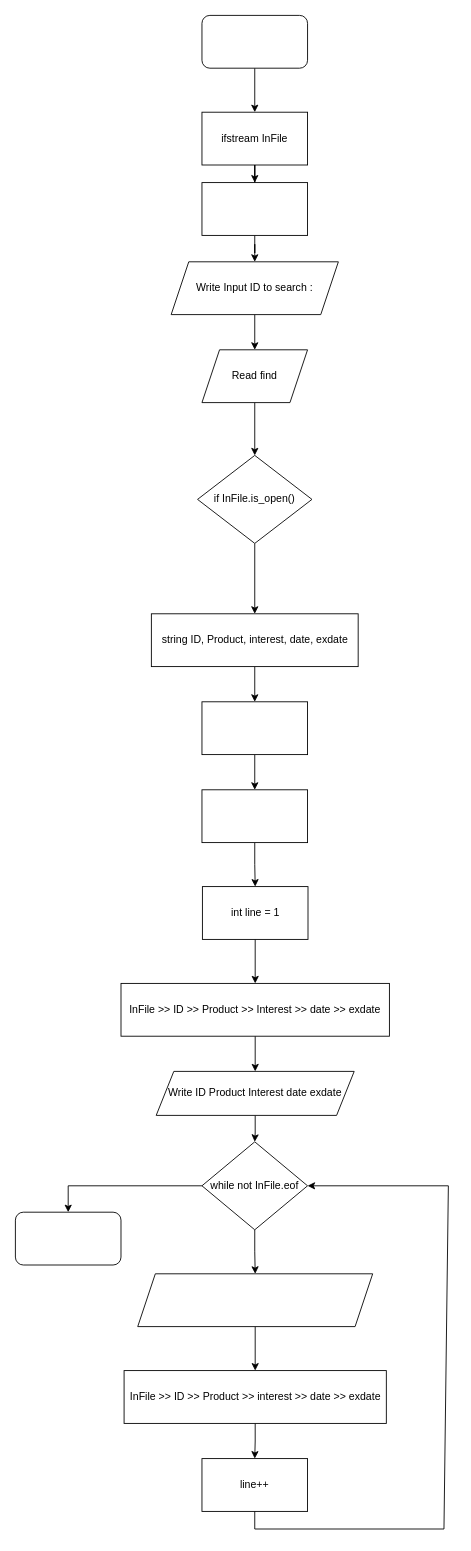
Image size: 471x1551. Some labels were removed from this diagram. Here are the shapes that lost their labels. From the top down, the centre of each, then its label:
At (254,41): "search".
At (254,208): "string find".
At (254,728): "string ln(58, '='".
At (254,816): "string ln2(58, '-'".
At (68,1238): "End".
At (255,1300): "Write line ID Product interest date exdate".
